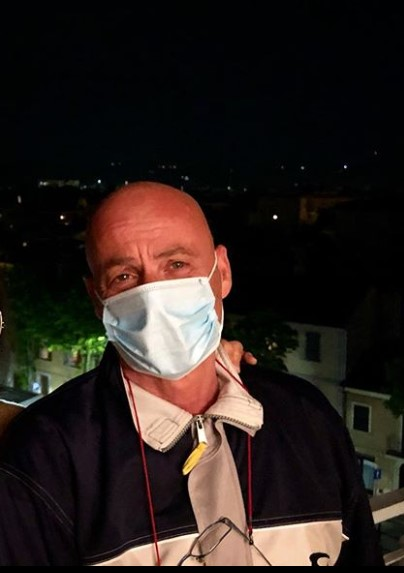face_with_mask: (83, 185, 234, 379)
